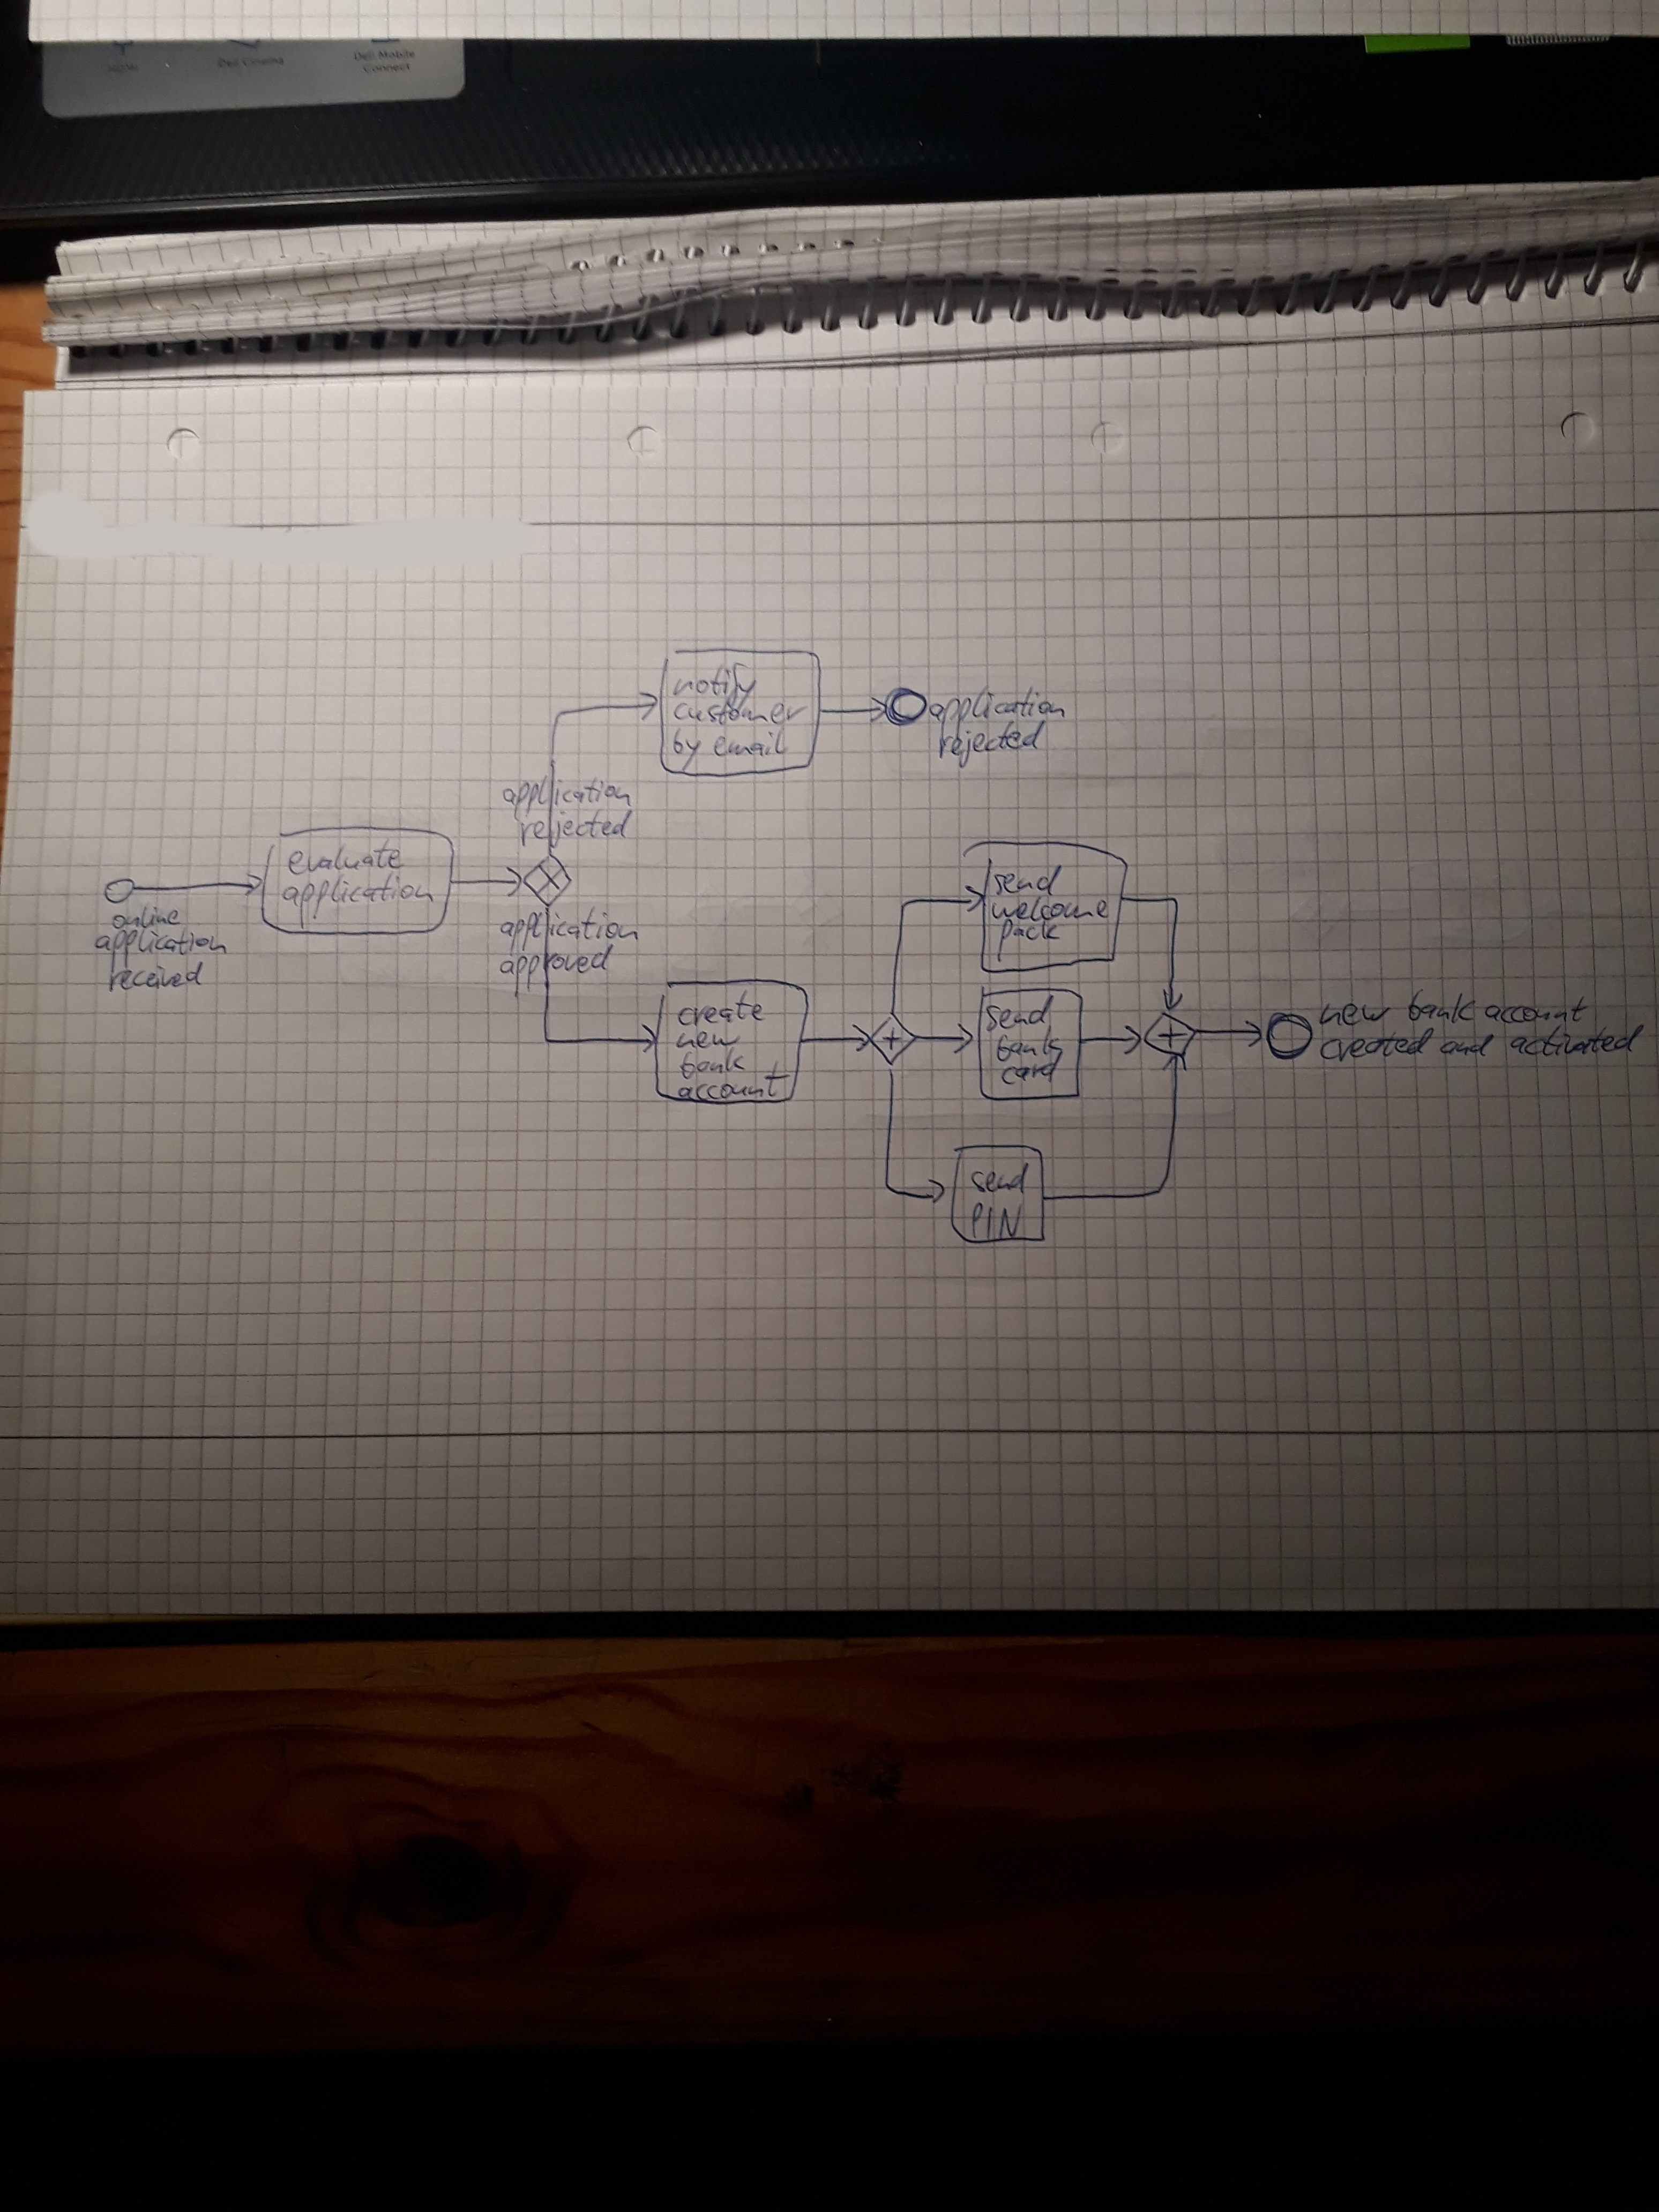PIN: (967, 1200, 1025, 1242)
account: (674, 1078, 791, 1108), (1485, 996, 1589, 1026)
activated: (1507, 1024, 1647, 1059)
and: (1439, 1031, 1495, 1062)
application: (282, 873, 436, 927), (497, 907, 640, 953), (89, 928, 239, 970), (925, 686, 1066, 730), (500, 782, 631, 817)
approved: (497, 951, 613, 993)
bank: (1406, 988, 1476, 1028), (678, 1047, 744, 1082), (993, 1033, 1061, 1062)
by: (669, 728, 709, 770)
card: (997, 1062, 1065, 1092)
create: (676, 989, 767, 1029)
created: (1319, 1031, 1434, 1068)
customer: (673, 698, 807, 728)
email: (713, 726, 791, 761)
evaluate: (288, 840, 404, 878)
new: (1316, 996, 1394, 1031), (674, 1031, 746, 1052)
notify: (671, 664, 756, 704)
online: (112, 904, 183, 928)
pack: (995, 918, 1063, 960)
received: (105, 961, 206, 995)
rejected: (931, 726, 1054, 768), (521, 810, 631, 850)
send: (985, 995, 1054, 1033), (969, 1160, 1032, 1197), (993, 864, 1061, 897)
welcome: (990, 894, 1108, 921)
